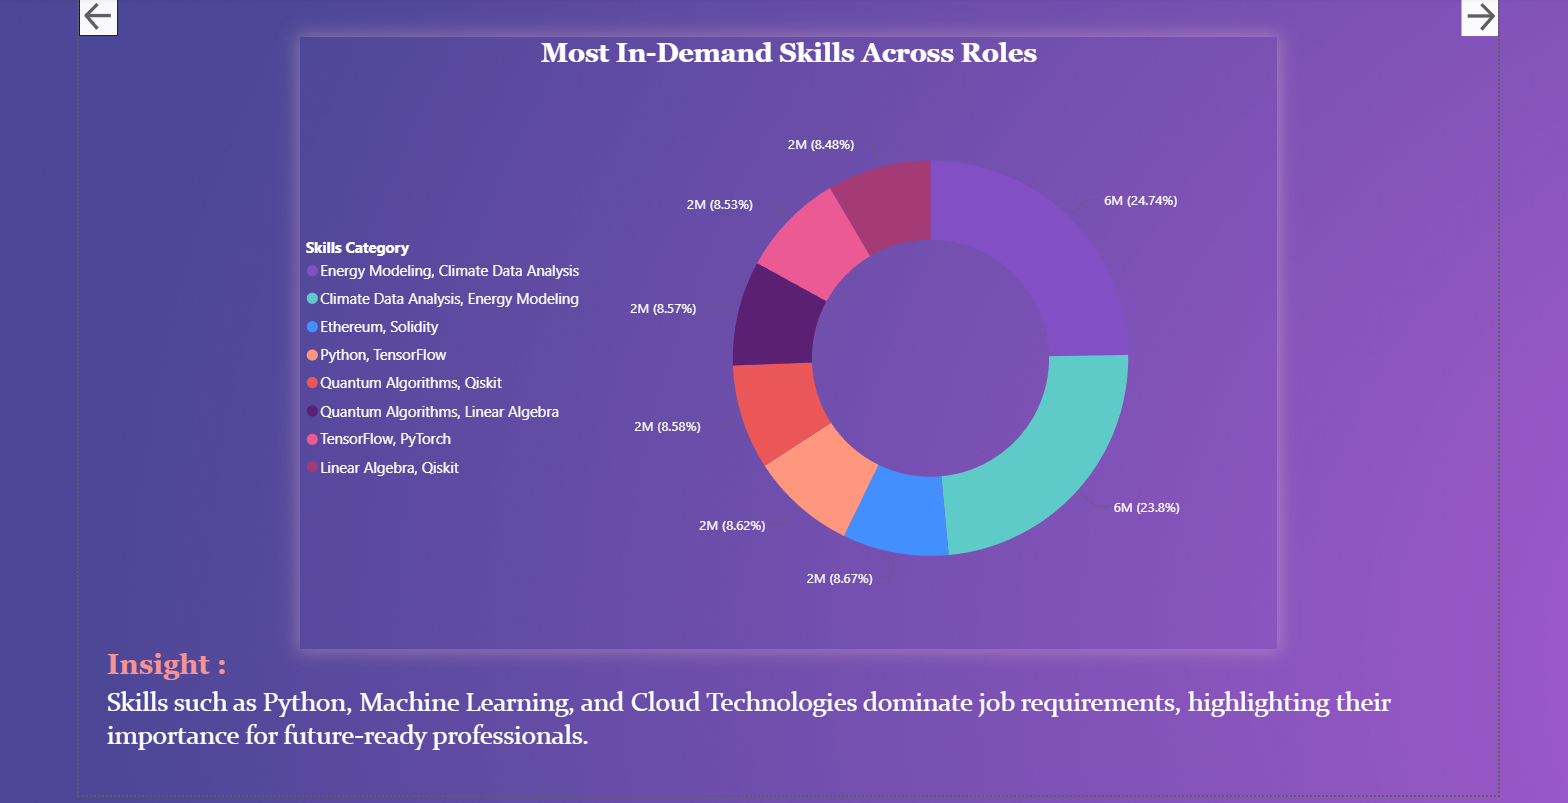

This screenshot's page, from the dashboard's own definition file:
{"tool":"powerbi","page":{"name":"Skills Analysis","canvas":[1280,720],"ordinal":1},"visuals":[{"type":"donutChart","title":"Most In-Demand Skills Across Roles","fields":{"Category":["future_jobs_dataset.skills_required"],"Y":["Sum(future_jobs_dataset.job_id)"]},"box":[199,35.7,881,551.6],"z":0},{"type":"textbox","title":"Insight :","box":[20.6,587.3,1248.7,133.1],"z":1000},{"type":"actionButton","box":[0,0,35.5,35.5],"z":2000},{"type":"actionButton","box":[1246.1,0,34.2,35.5],"z":3000}]}

Visuals, with their boxes on the page's 1280x720 design canvas (x1, y1, x2, y2). These are canvas units, not pixel positions in the 1568x803 screenshot, which may show the page scaled, cropped or inside an application window:
"Most In-Demand Skills Across Roles" donutChart: {"left": 199, "top": 36, "right": 1080, "bottom": 587}
"Insight :" textbox: {"left": 21, "top": 587, "right": 1269, "bottom": 720}
actionButton: {"left": 0, "top": 0, "right": 36, "bottom": 36}
actionButton: {"left": 1246, "top": 0, "right": 1280, "bottom": 36}
